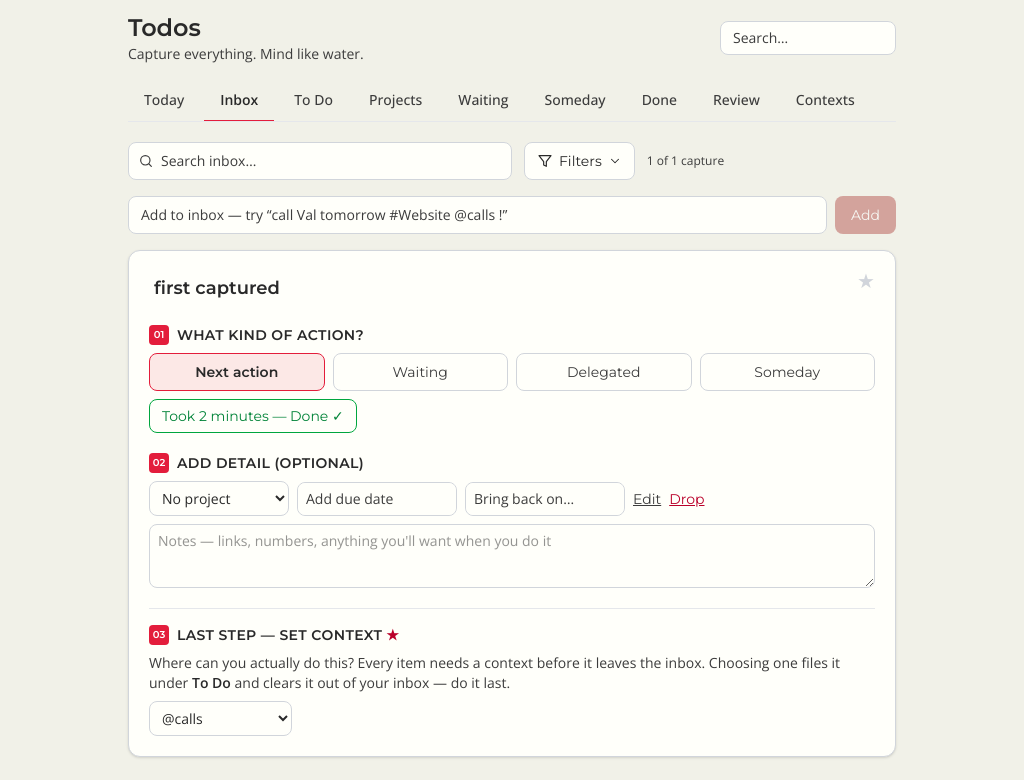
Test: InboxPage — the undo block sits inline (#265) › still shows the block inline once the last item is filed and the inbox is empty
Select "@calls" in the dropdown named "Set context and file this todo" at {"x": 220, "y": 718}, box [149,701,292,736]
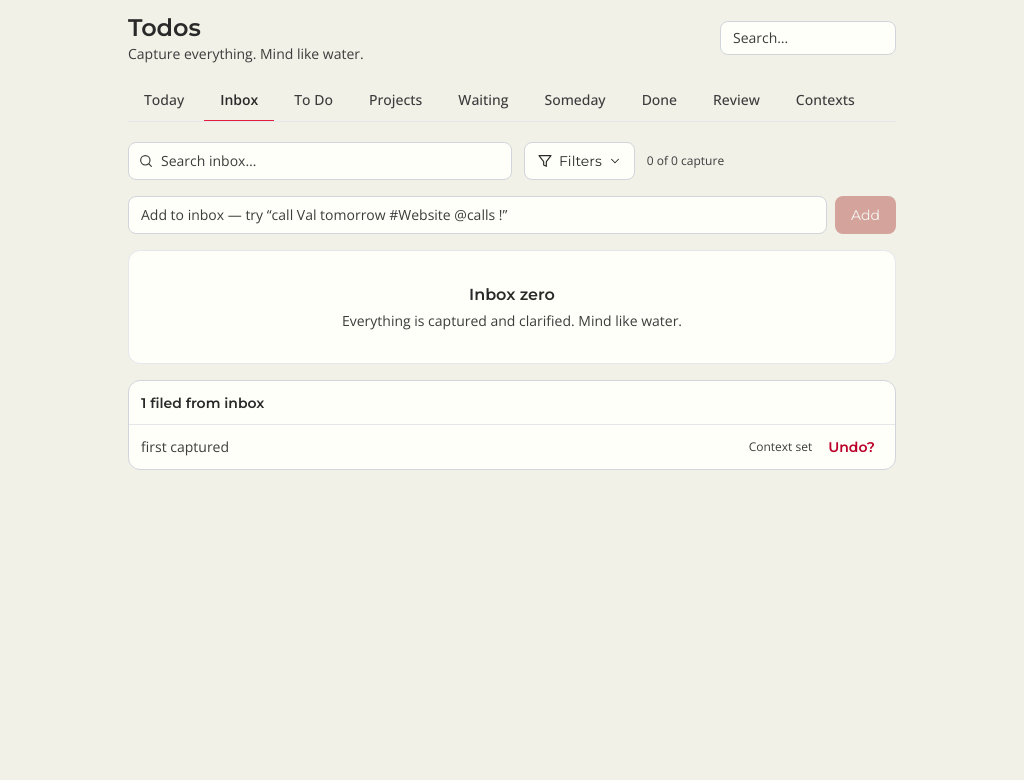
Check: the text "Inbox zero" is shown, box [469,285,555,304]
